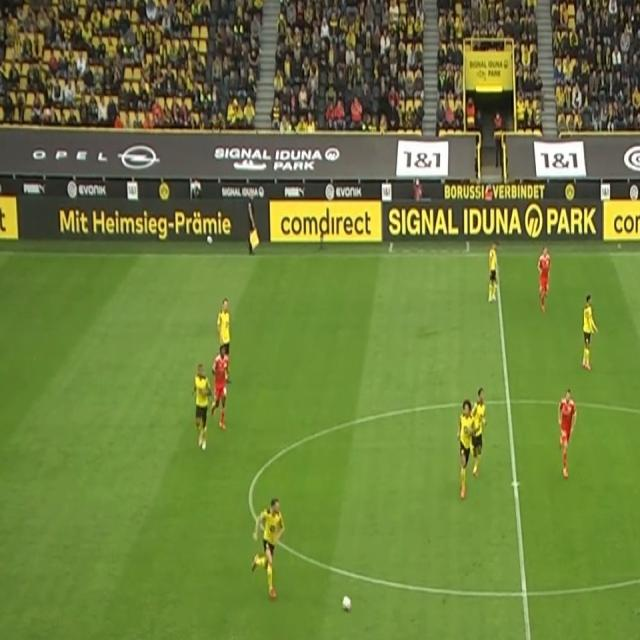ball: (340, 594, 353, 614)
